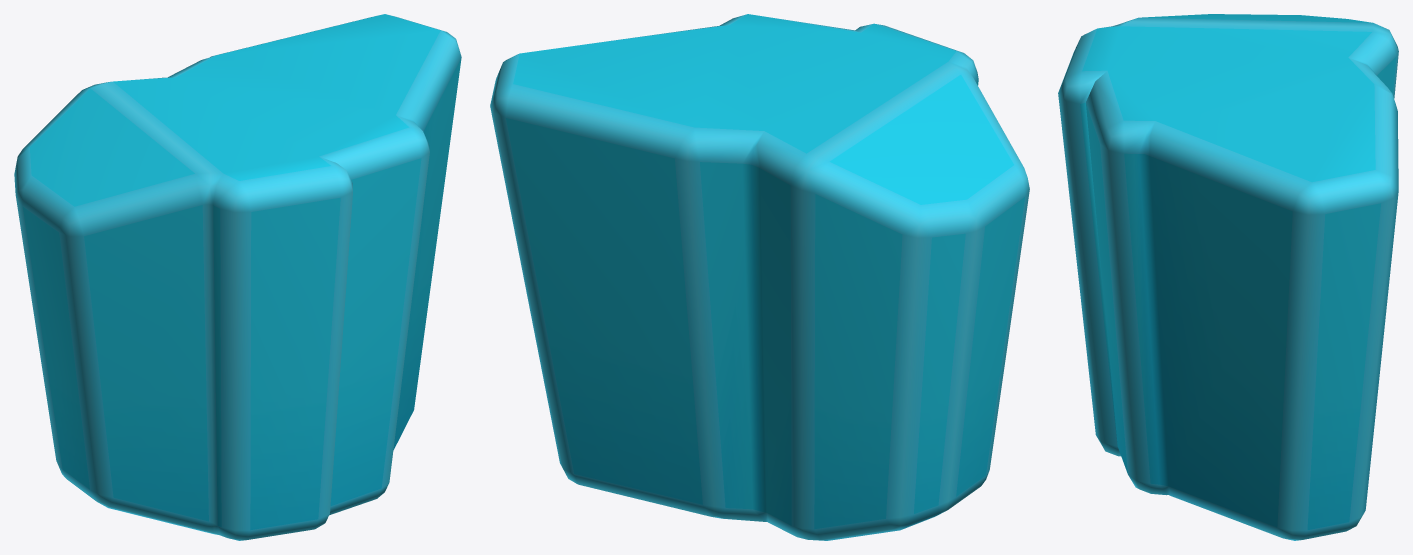
Rendered from ice_002.fbx.
3 views of the same model, side by side, from view 1: azimuth 30°, elevation 25°; view 2: azimuth 150°, elevation 25°; view 3: azimuth 270°, elevation 25° (orthographic). The views are drawn at different scales.
Visible parts, largest first — view 1: ice_002; view 2: ice_002; view 3: ice_002.
Part boxes in pixels (box(x1,y1,x2,y2)): ice_002: box(14, 14, 461, 540); ice_002: box(490, 14, 1029, 540); ice_002: box(1058, 14, 1398, 540).
Bounding box in the file's own units: 381 × 245 × 308.
